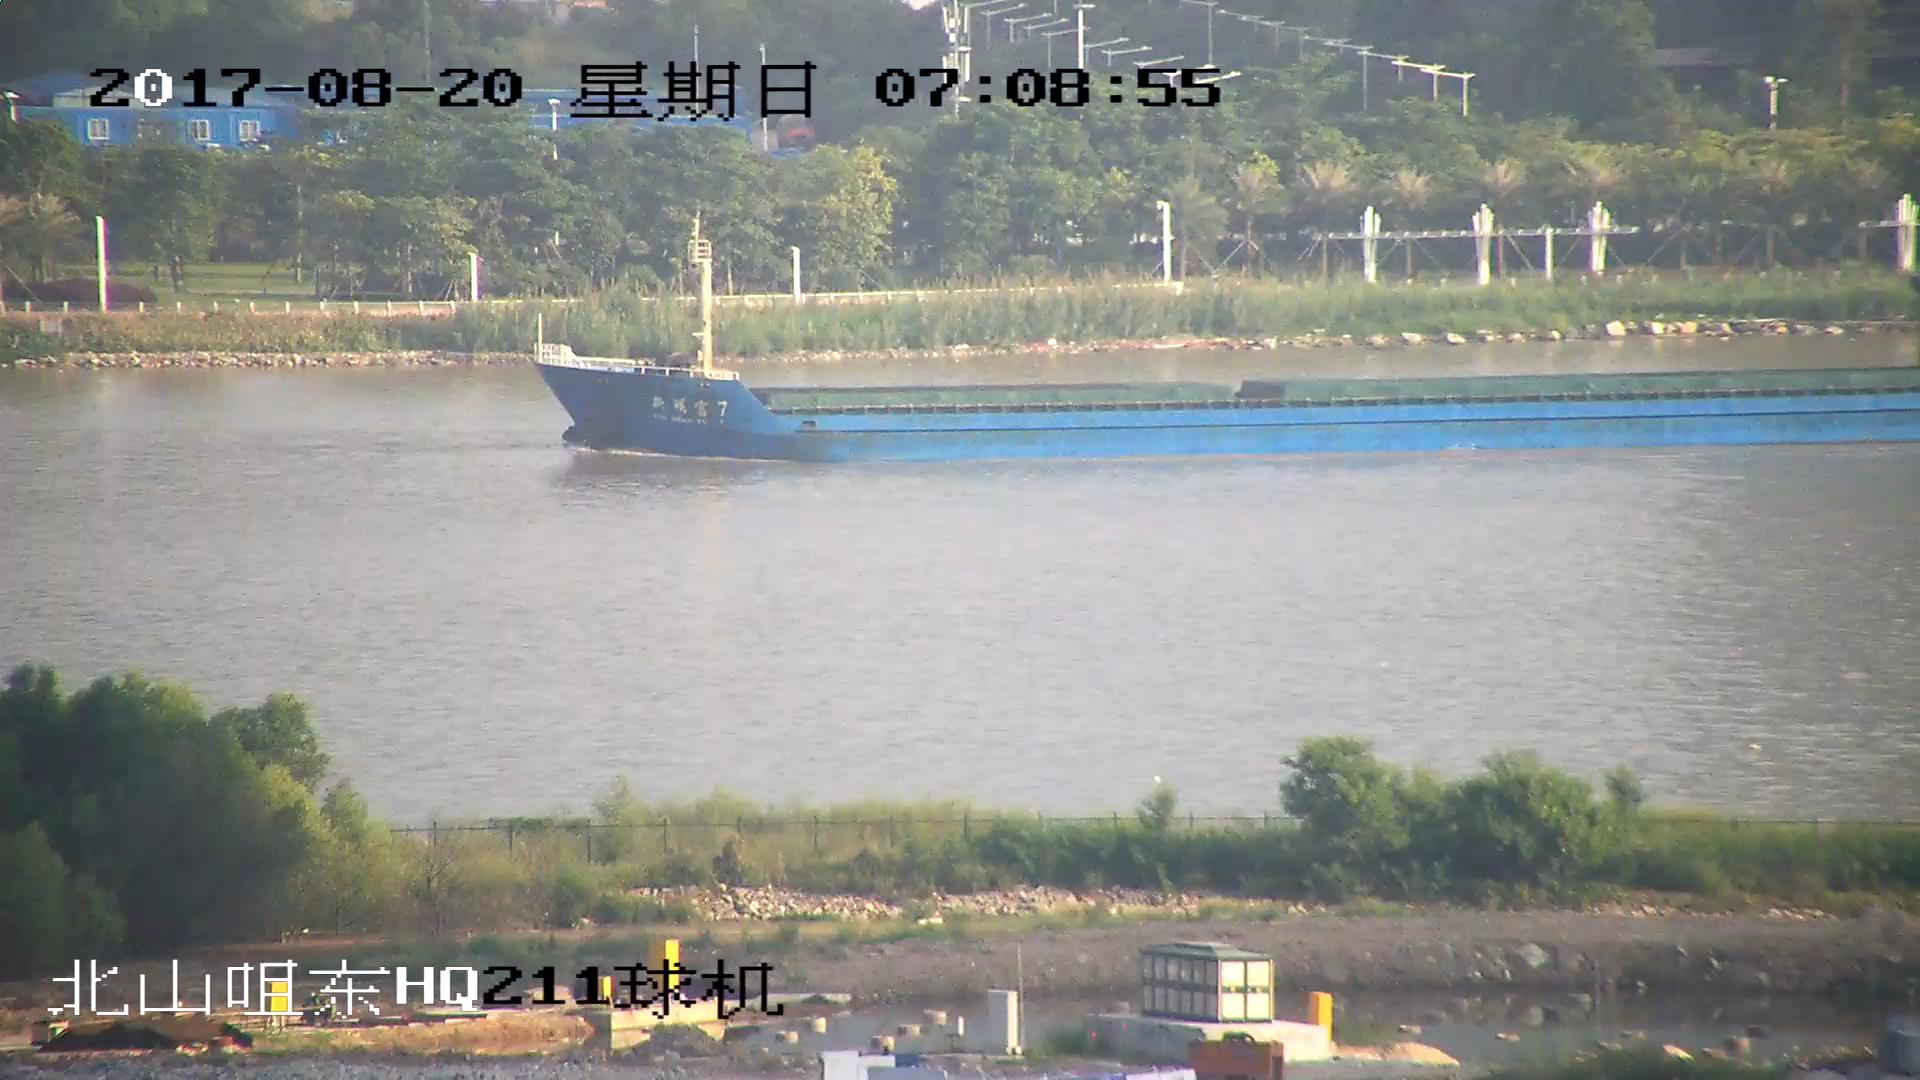general cargo ship: (527, 240, 1920, 465)
